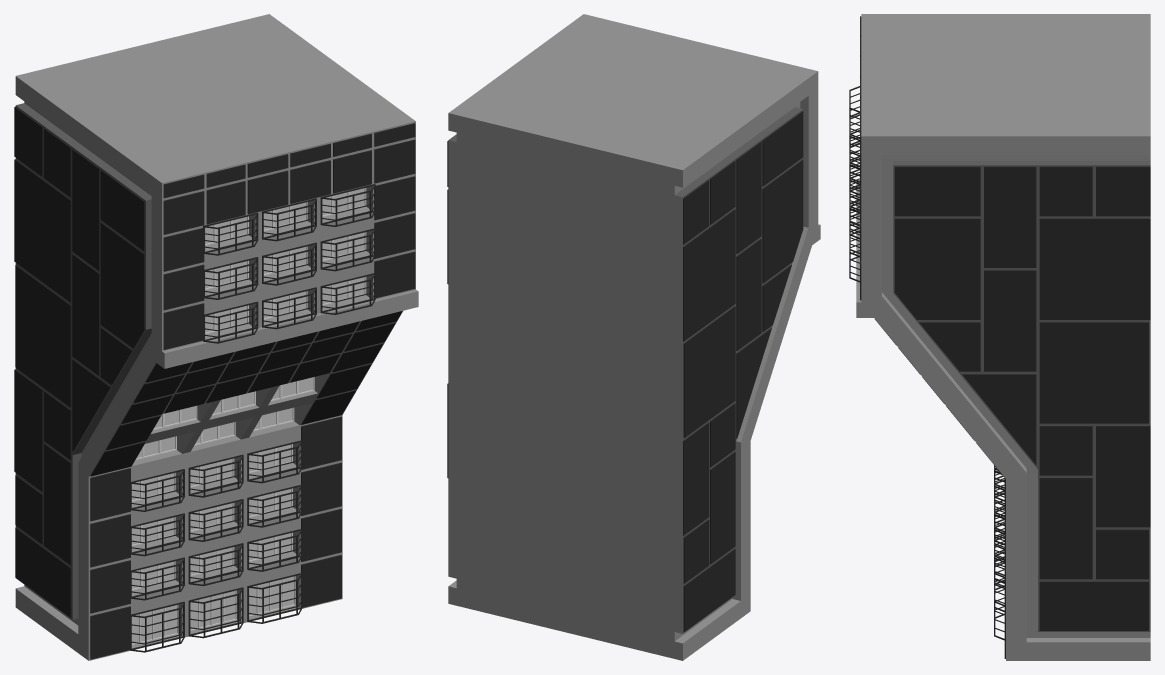
File: Building_05_A_Fake Interior.FBX
The picture shows the model from 3 angles, left to right: view 1: azimuth 30°, elevation 25°; view 2: azimuth 150°, elevation 25°; view 3: azimuth 270°, elevation 25°; orthographic projection. The views are drawn at different scales.
Parts seen in each view (by area): view 1: Building_05_A_Fake Interior_LOD0, Building_05_A_Window_Fence_LOD0; view 2: Building_05_A_Fake Interior_LOD0; view 3: Building_05_A_Fake Interior_LOD0, Building_05_A_Window_Fence_LOD0.
Boxes of the visible parts, <box> form: Building_05_A_Fake Interior_LOD0: <box>14,14,418,660</box>; Building_05_A_Window_Fence_LOD0: <box>130,184,375,652</box>; Building_05_A_Fake Interior_LOD0: <box>447,14,820,660</box>; Building_05_A_Fake Interior_LOD0: <box>856,14,1150,660</box>; Building_05_A_Window_Fence_LOD0: <box>849,86,1004,640</box>.
Size of what is drawn, in the model's own units: 907 by 1800 by 937.
